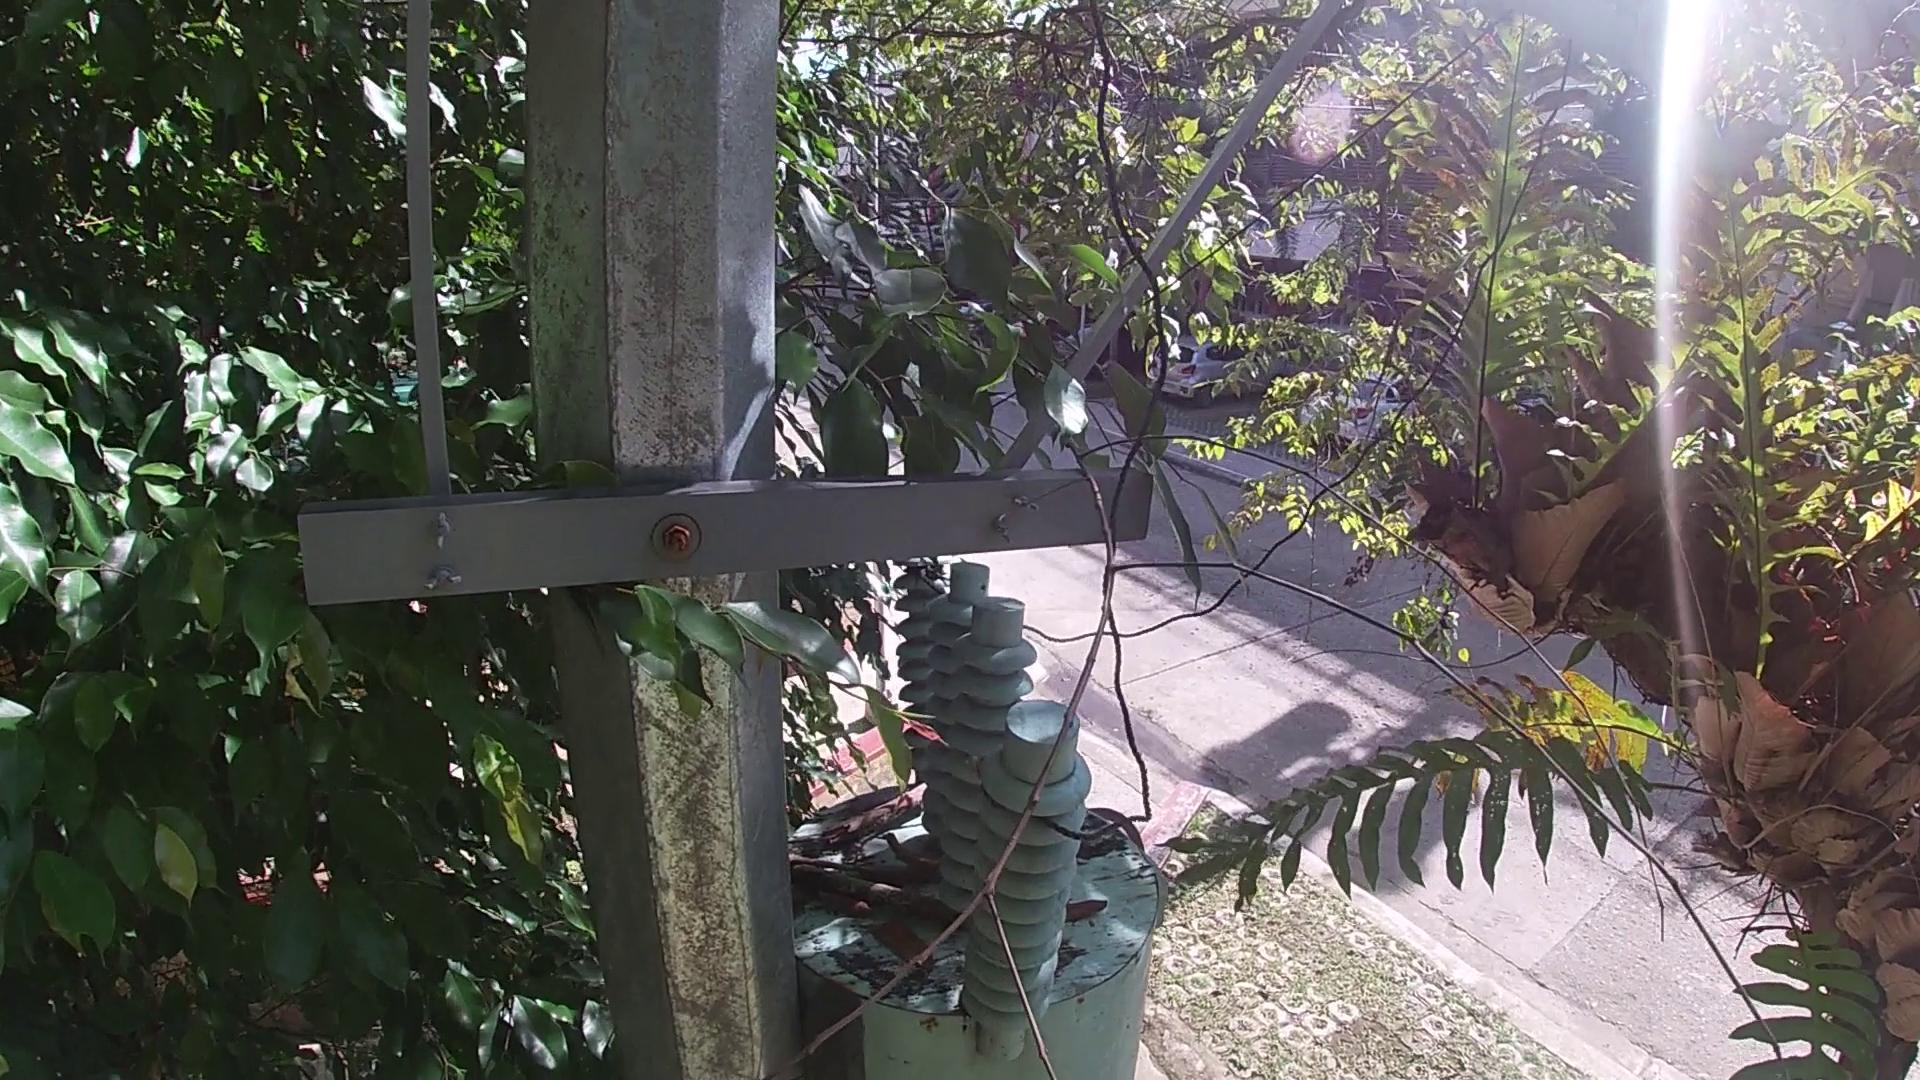leaf: (864, 915, 938, 980), (807, 887, 880, 924), (1062, 895, 1110, 928)
tree branch: (750, 419, 1791, 1077), (789, 861, 967, 931), (819, 783, 931, 861)
